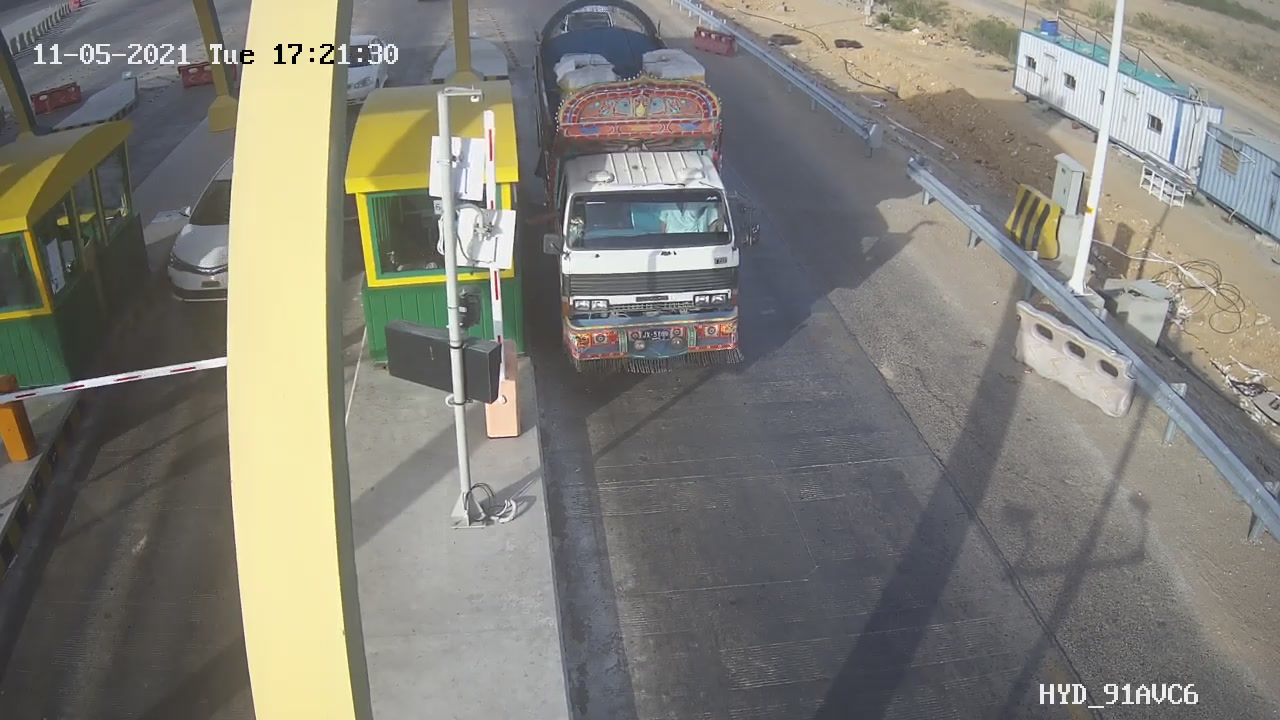F5: (513, 1, 785, 401)
